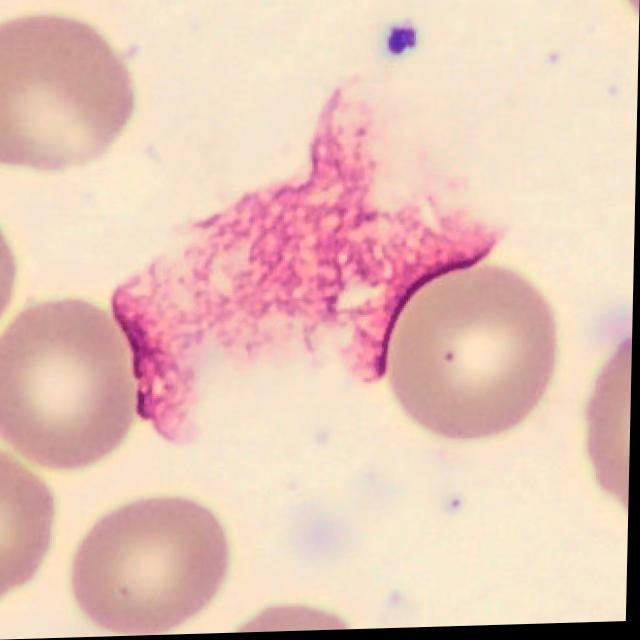Artefato: (117, 91, 500, 438)
